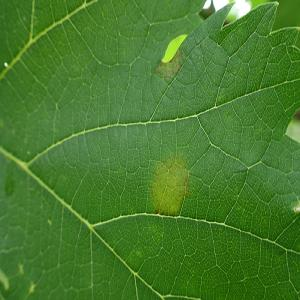Folha: (0, 0, 299, 299)
Fungo: (150, 152, 190, 216), (153, 54, 182, 80), (0, 268, 9, 291), (29, 280, 35, 293), (18, 262, 24, 274), (46, 218, 52, 226)
